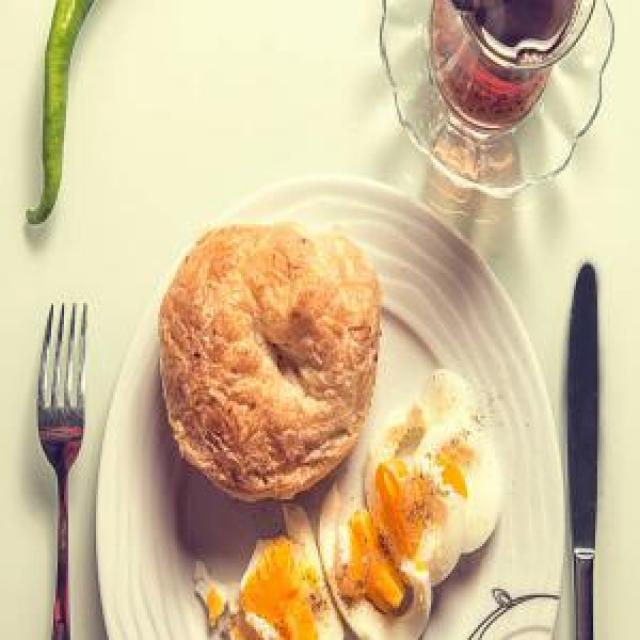knife: (563, 254, 604, 639)
